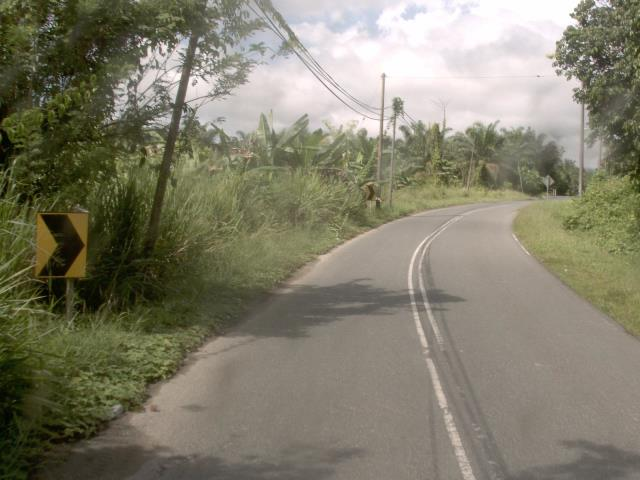traffic_sign: (23, 199, 99, 291)
